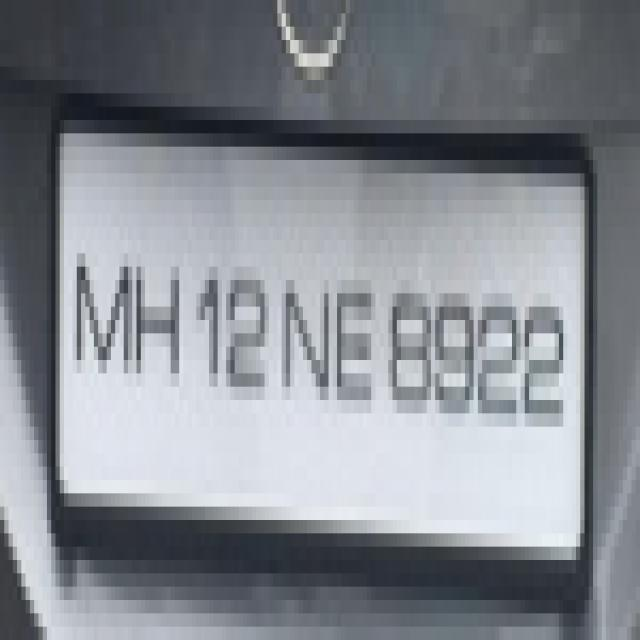1: (196, 247, 224, 396)
8: (386, 263, 435, 426)
9: (432, 259, 477, 426)
E: (332, 243, 378, 427)
H: (133, 235, 183, 404)
M: (66, 223, 132, 386)
N: (278, 235, 332, 413)
